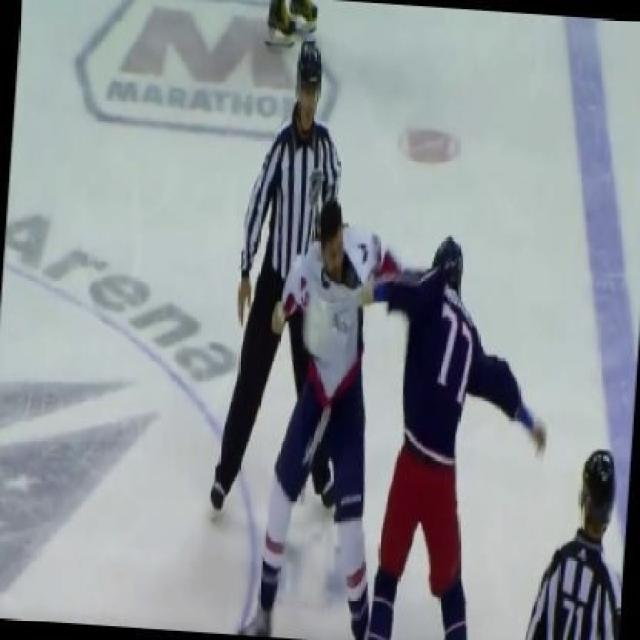fight: (205, 166, 577, 639)
non-fight: (194, 26, 371, 539), (500, 432, 635, 638)
